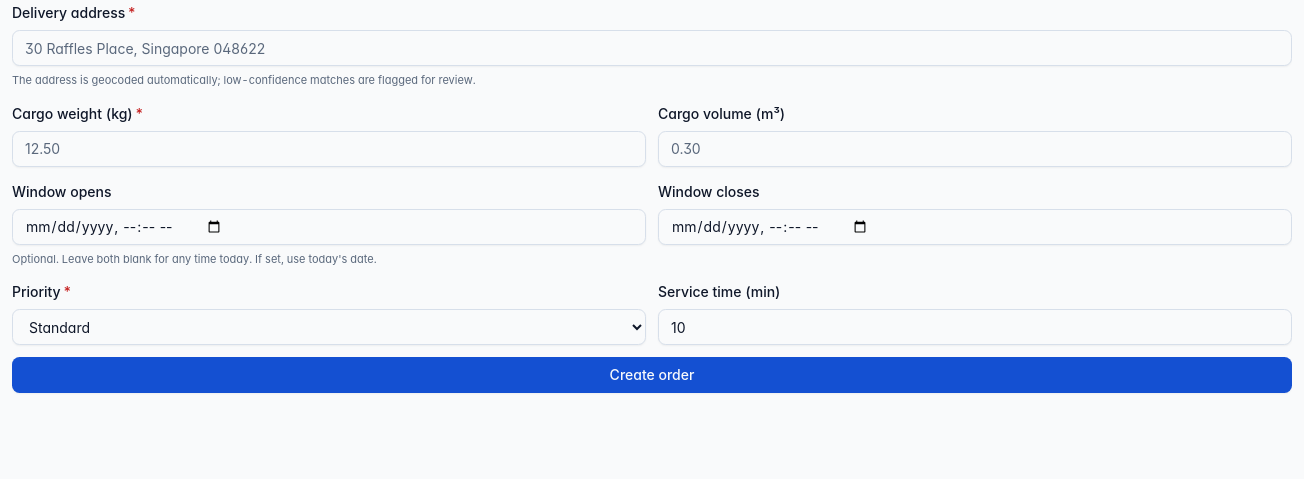
Test: OrderForm › preserves entered values and shows field errors when the server rejects
Type "9 Bishan Place" into the field labelled "Delivery address*".
click(652, 48); type("9 Bishan Place")  # box [12,30,1292,66]
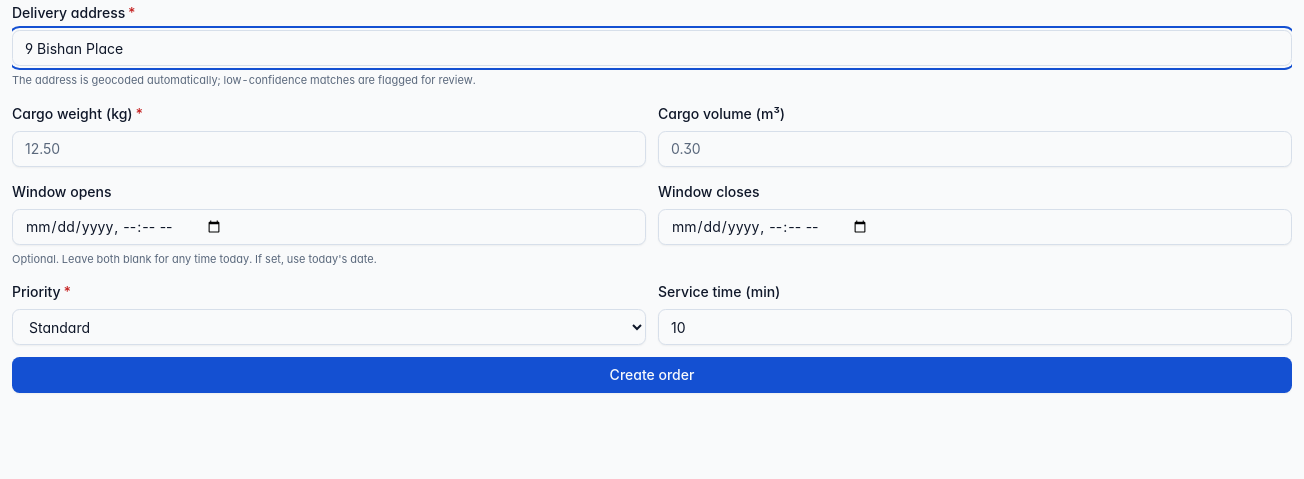
Type "25" into the number field labelled "Cargo weight (kg)*".
click(329, 148); type("25")  # box [12,130,646,166]
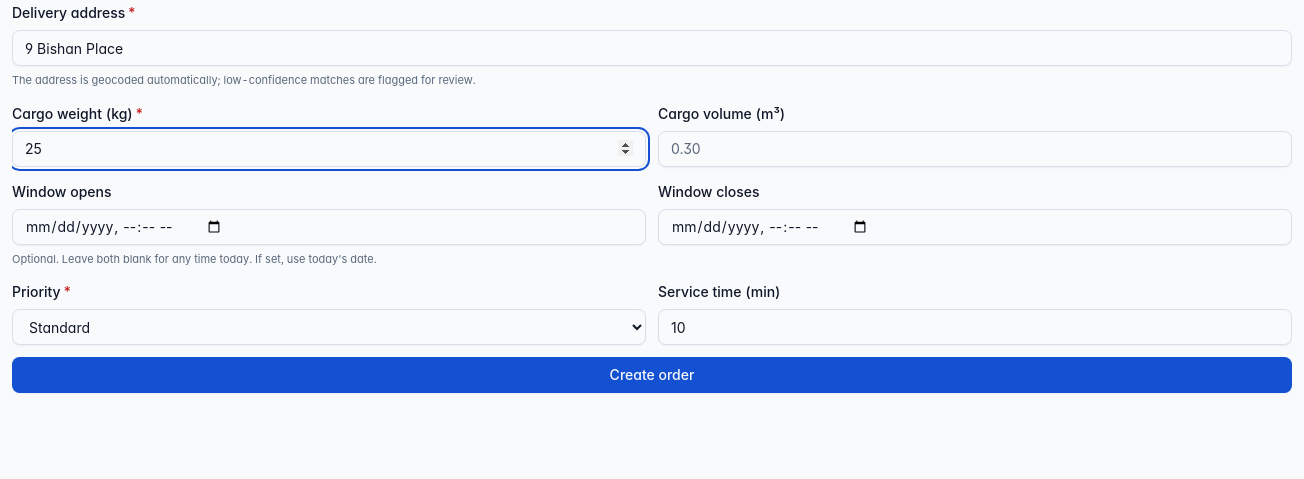
Click the button "Create order".
click(652, 375)  # box [12,357,1292,393]
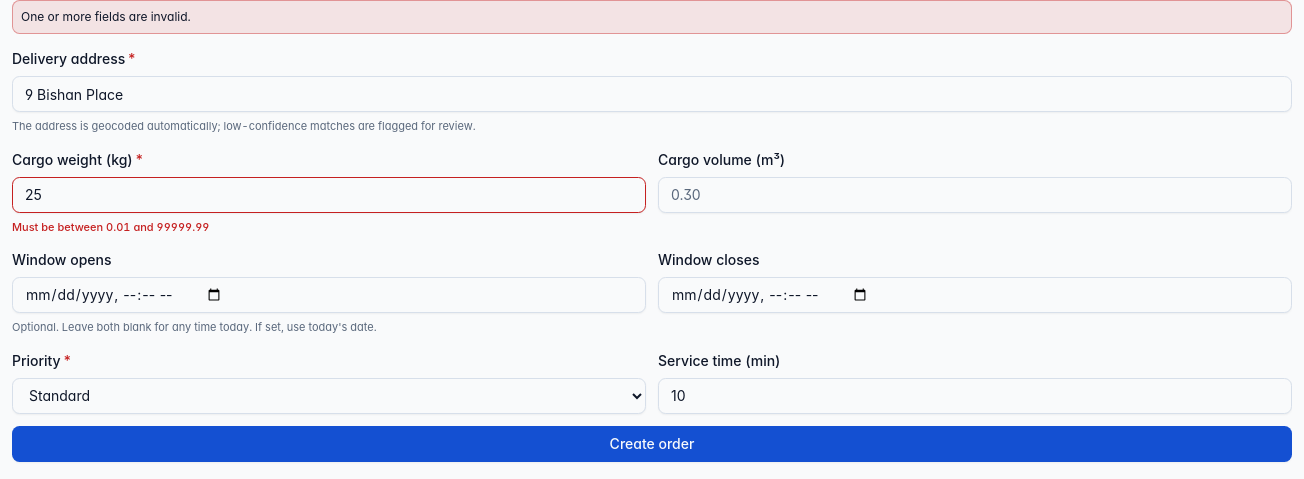
Now the text "Must be between 0.01 and 99999.99" is shown, box [12,220,209,234]
